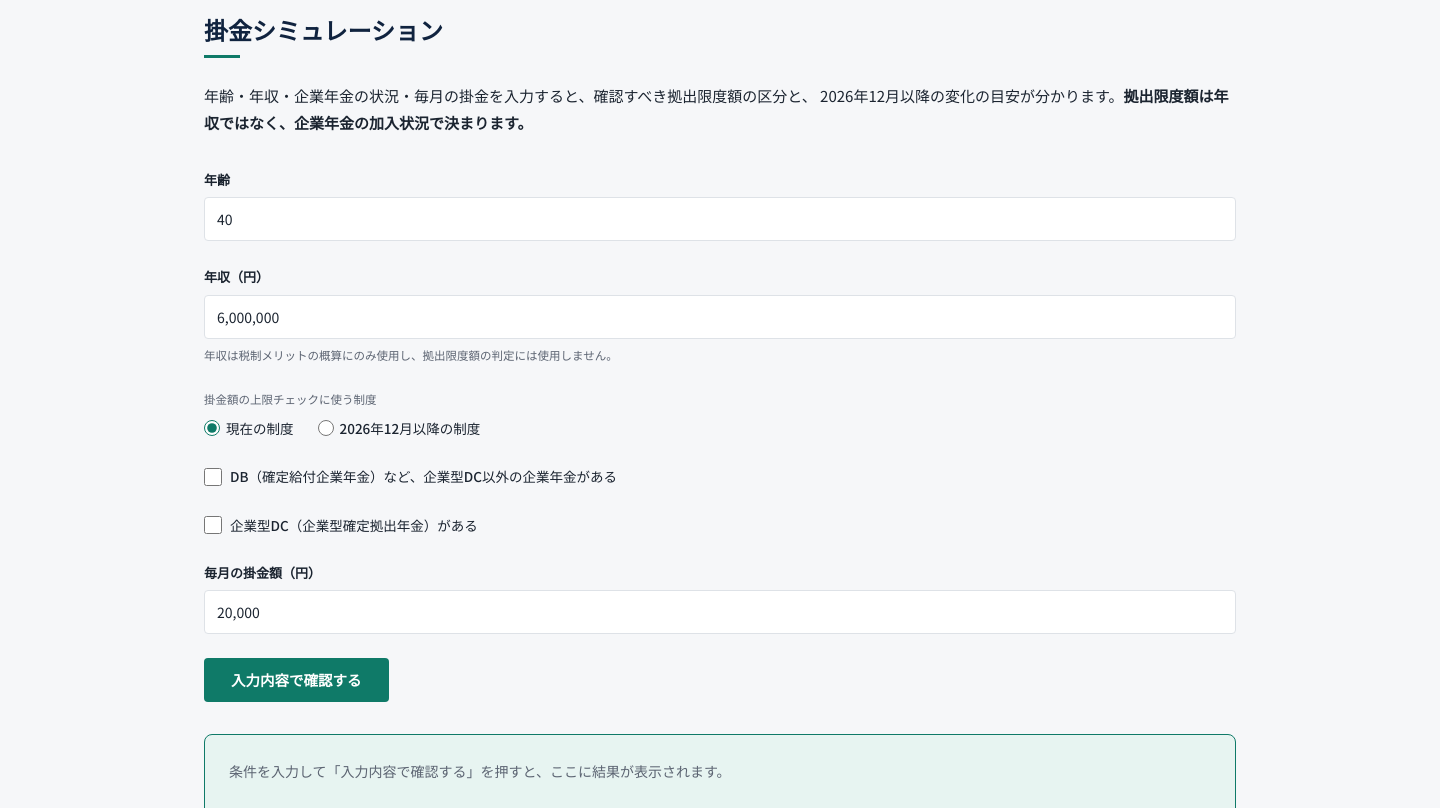
Test: SimulatorSection › 年齢・年収のバリデーション › 年収にマイナス値を入力するとエラーメッセージが表示される
The width and height of the screenshot is (1440, 808).
Replace the text in the field labelled "年収（円）" with "-1000000" at x=720, y=317, box [204,295,1236,339]
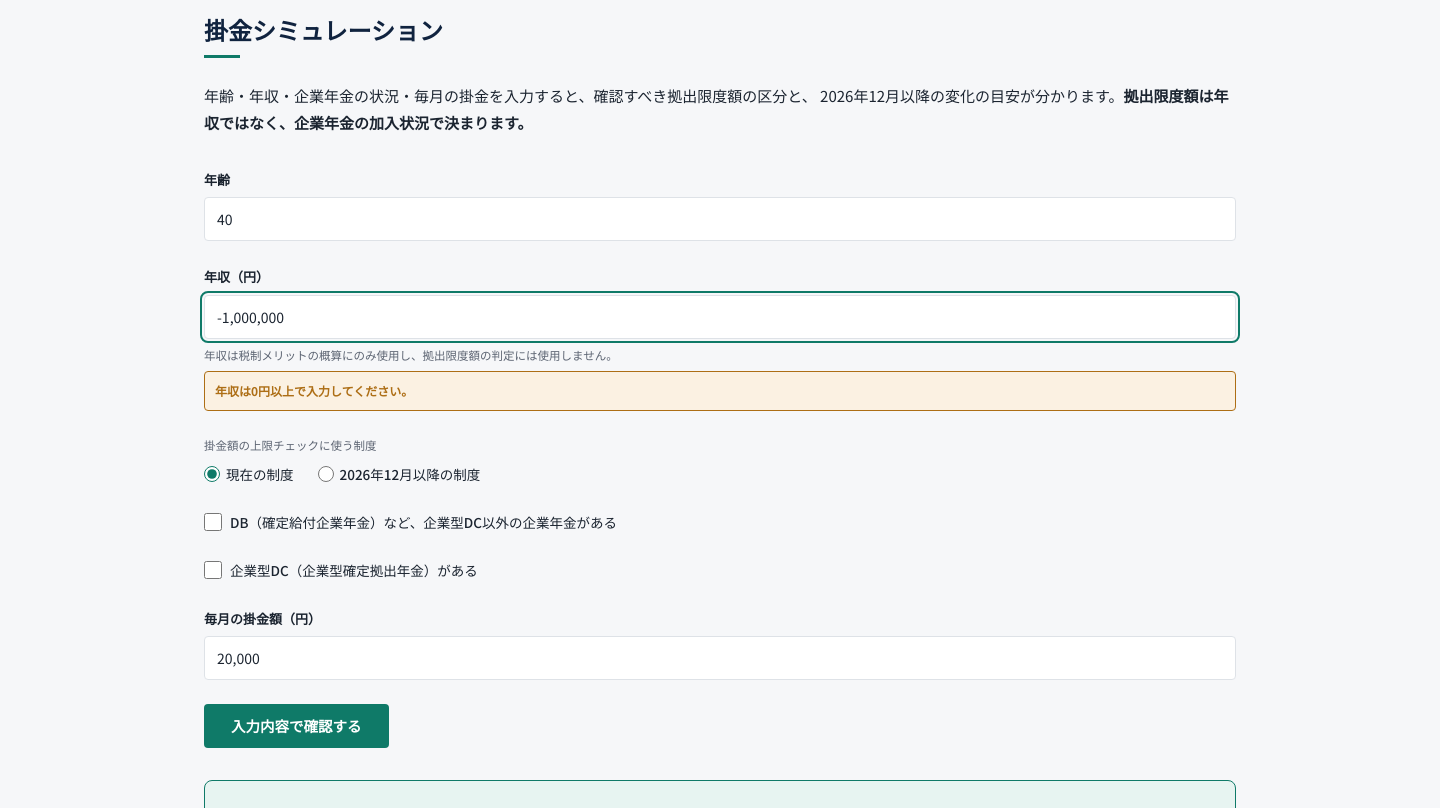
Check: the message reads "年収は0円以上で入力してください。", box [215,382,413,400]
